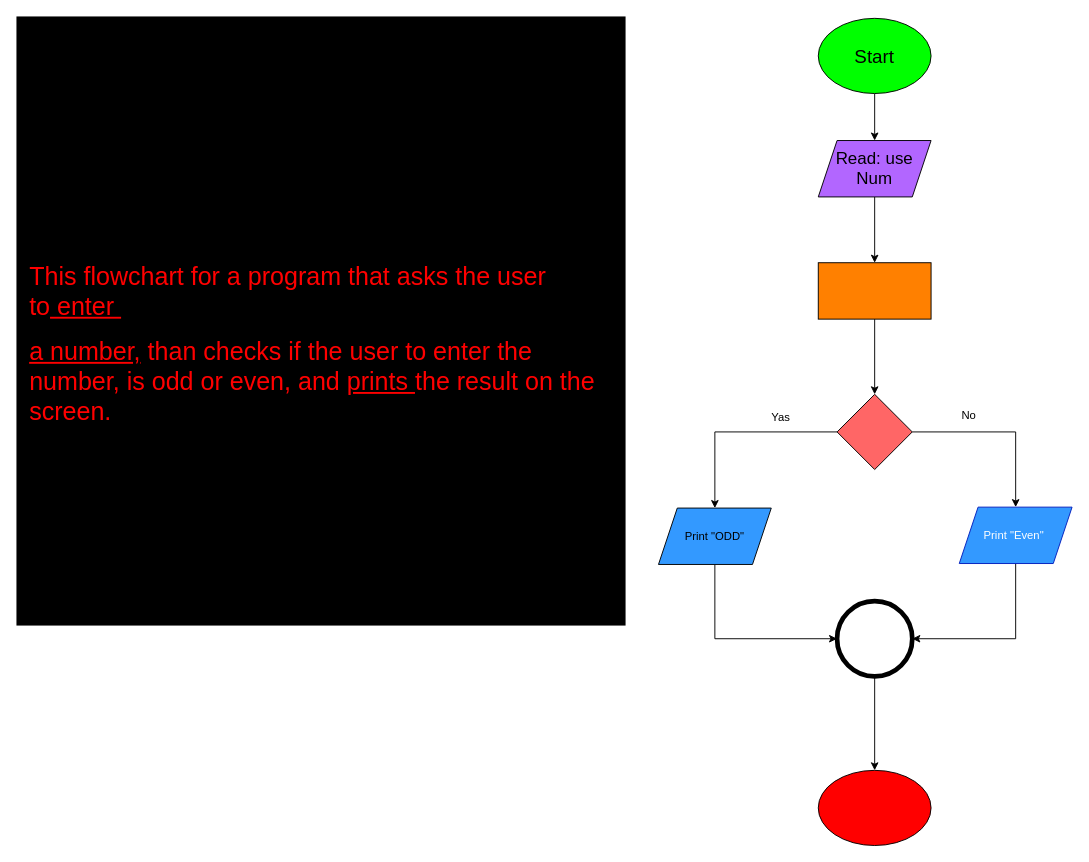
The diagram is 1089 pixels wide and 862 high, and some of its shapes have lost their labels. The box of each missing label's shape, as (x1, y1, x2, y2) in pixels:
End: (817, 769, 931, 846)
If is (Num = 0): (836, 393, 912, 470)
Result = Num mod 2: (817, 262, 931, 319)
